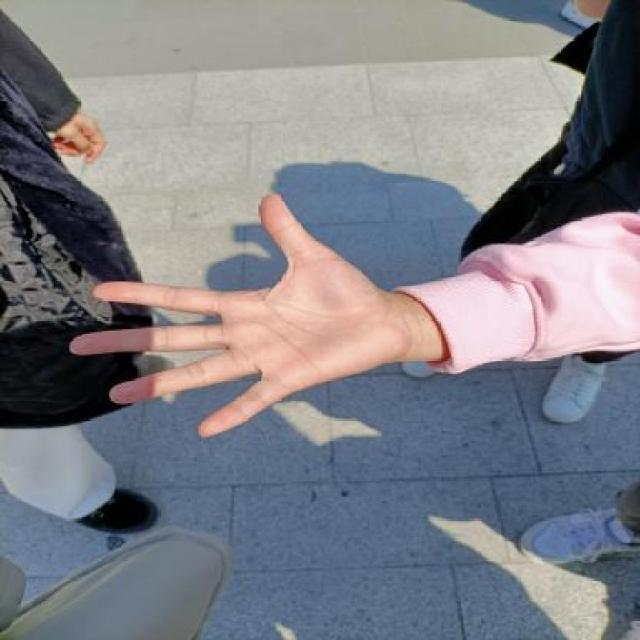bare_hand: (54, 182, 426, 444)
